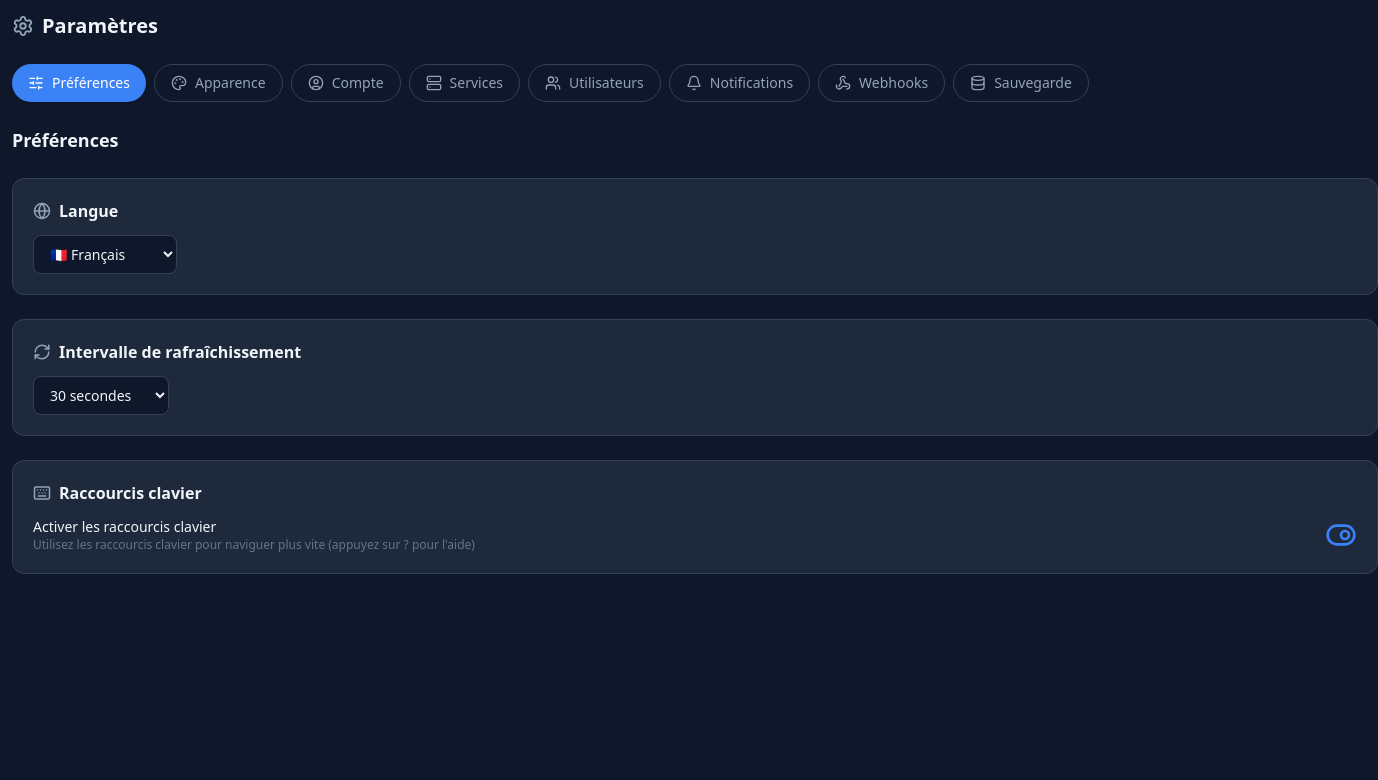
Test: SettingsPage › has export/import section in backup tab
Click the button with test id "settings-pill-backup" at (1021,83), box [953,64,1089,102]
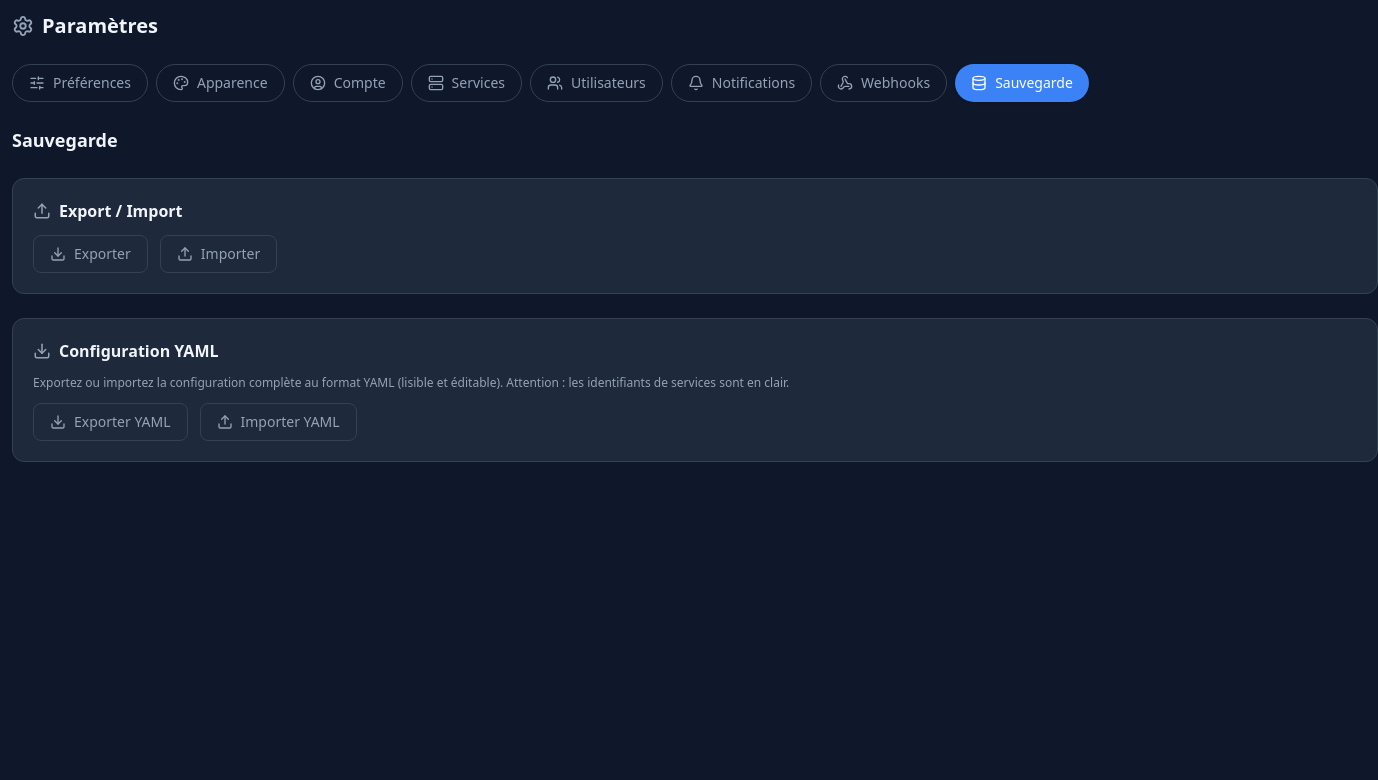
Expected: the element with test id "settings-export-import" is shown, [12,178,1377,294]
Expected: the button with test id "settings-export-btn" is shown, [33,235,148,273]
Expected: the file field with test id "settings-import-btn" is shown, [160,235,277,273]
